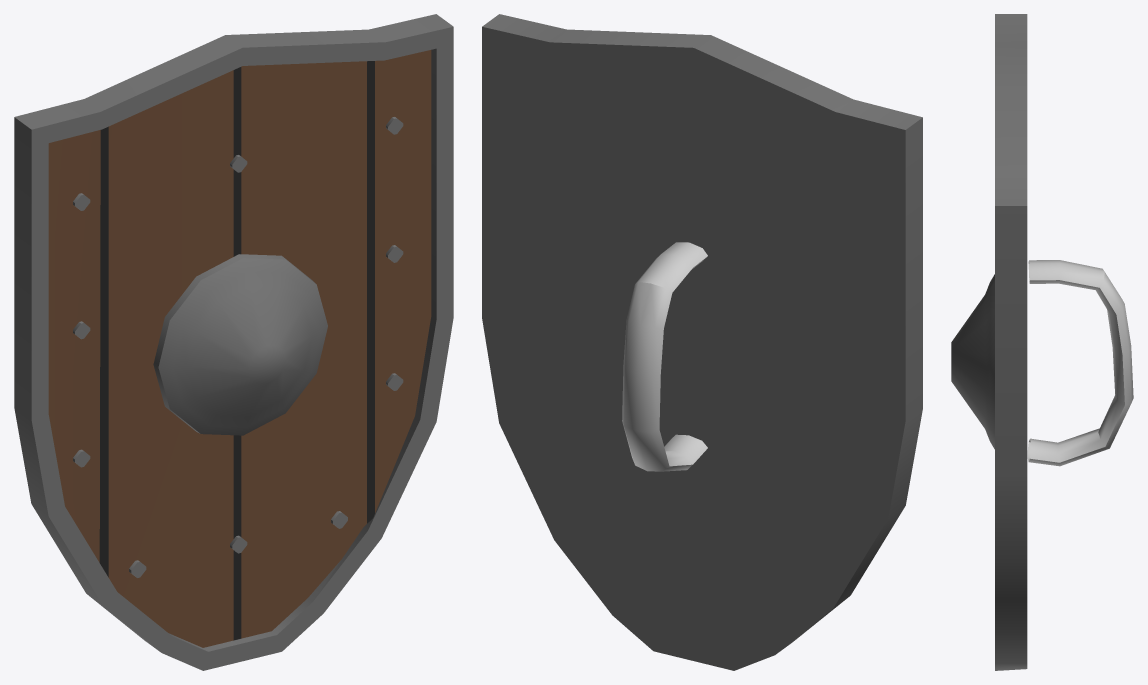
Rendered from Sheild_1.fbx.
The picture shows the model from 3 angles, left to right: view 1: azimuth 30°, elevation 25°; view 2: azimuth 150°, elevation 25°; view 3: azimuth 270°, elevation 25°; orthographic projection. The views are drawn at different scales.
Parts seen in each view (by area): view 1: Sheild_1; view 2: Sheild_1; view 3: Sheild_1.
Part boxes in pixels (x1,y1,x2,y2): Sheild_1: (14, 14, 453, 670); Sheild_1: (482, 14, 922, 670); Sheild_1: (951, 14, 1133, 670).
Bounding box in the file's own units: 0.2417 × 0.3357 × 0.097.
